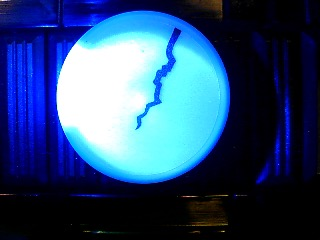CRACK: (54, 10, 231, 185)
